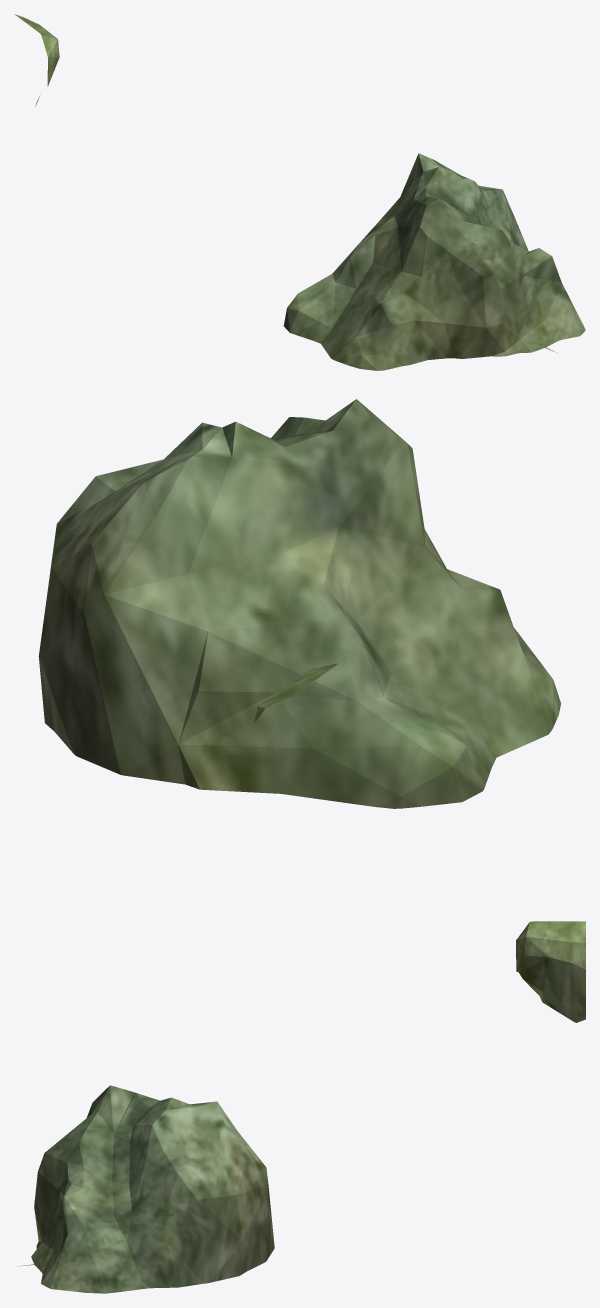
3 views of the same model, one above another, from view 1: azimuth 30°, elevation 25°; view 2: azimuth 150°, elevation 25°; view 3: azimuth 270°, elevation 25° (orthographic). The views are drawn at different scales.
Bounding box in the file's own units: 1.93 × 1.16 × 2.87.
1 material, 1 textured.
